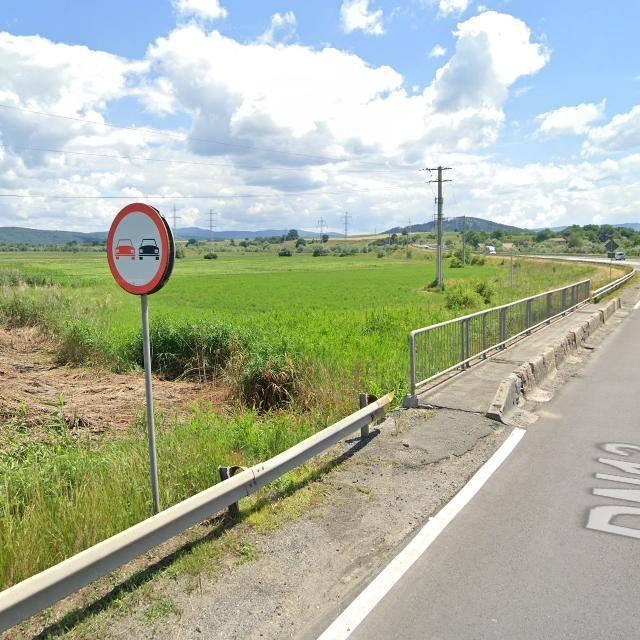forb_overtake: (105, 205, 171, 293)
